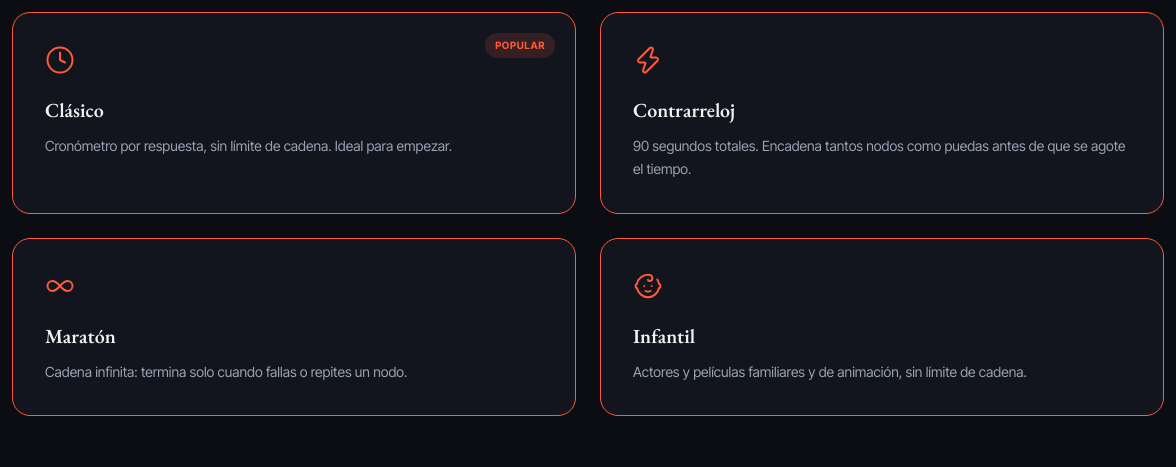
Test case: ModeGrid › si startGame falla, muestra un error y no navega
What coordinates should you click on to do the following:
click the button "Clásico"
I would click on:
 (520, 46)
Its box is 12,12 -> 576,214.
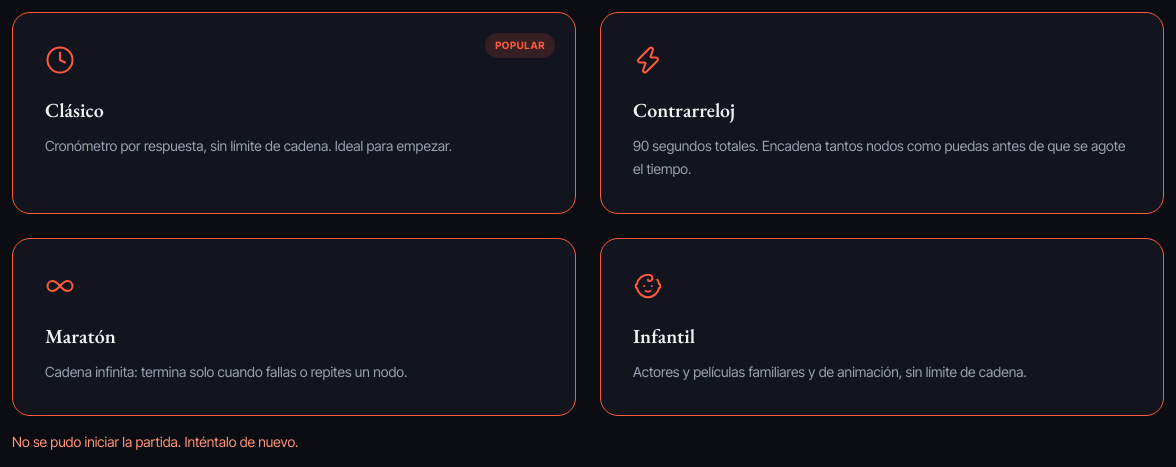
Check: the message reads "No se pudo iniciar la partida. Inténtalo de nuevo.", box 12,433 -> 298,450
